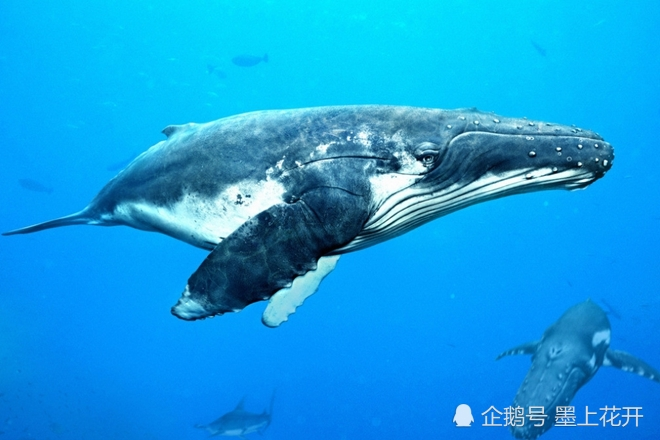fish: (1, 100, 620, 330), (477, 302, 654, 433)
